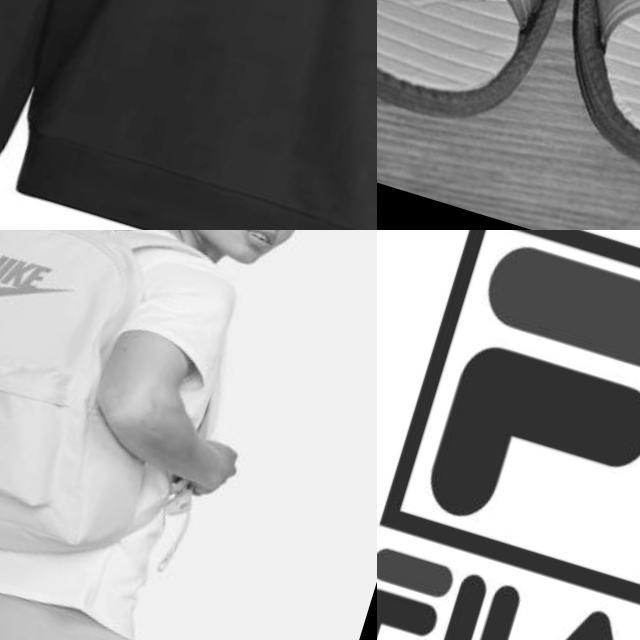FILA_original: (377, 230, 640, 640), (377, 230, 640, 613)
NIKE_original: (0, 230, 87, 333)
